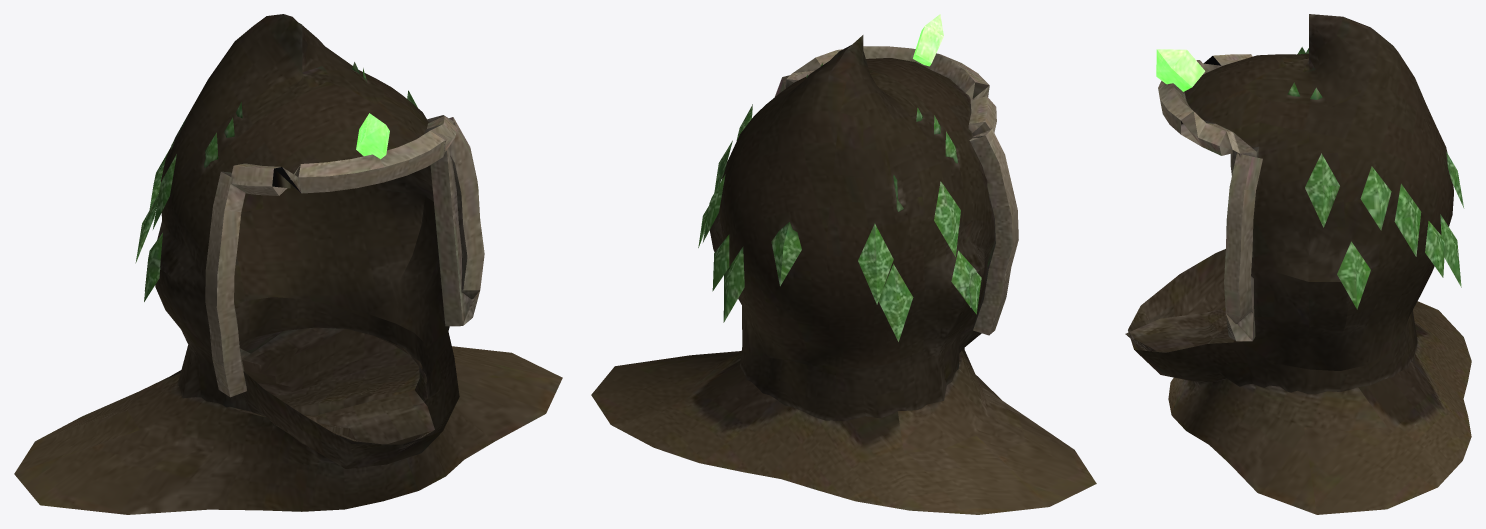
File: Capuz_do_Patrulheiro_nivel100.glb
3 views of the same model, side by side, from view 1: azimuth 30°, elevation 25°; view 2: azimuth 150°, elevation 25°; view 3: azimuth 270°, elevation 25° (orthographic). The views are drawn at different scales.
Visible parts, largest first — view 1: capuz_do_patrulheiro_nivel100; view 2: capuz_do_patrulheiro_nivel100; view 3: capuz_do_patrulheiro_nivel100.
Boxes of the visible parts, <box> form: capuz_do_patrulheiro_nivel100: <box>14,14,562,514</box>; capuz_do_patrulheiro_nivel100: <box>591,14,1096,514</box>; capuz_do_patrulheiro_nivel100: <box>1125,14,1471,514</box>.
Bounding box in the file's own units: 0.4628 × 0.356 × 0.2919.
Materials: 1 (1 with a texture image).
